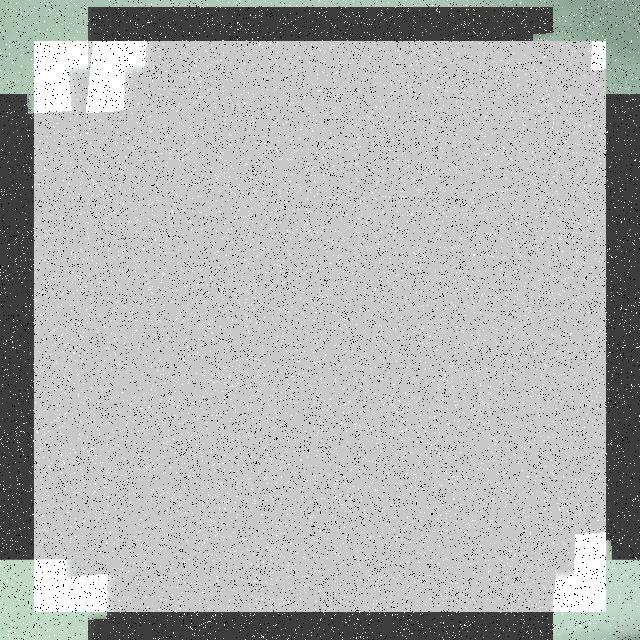dua ribu rupiah: (34, 41, 606, 612)
